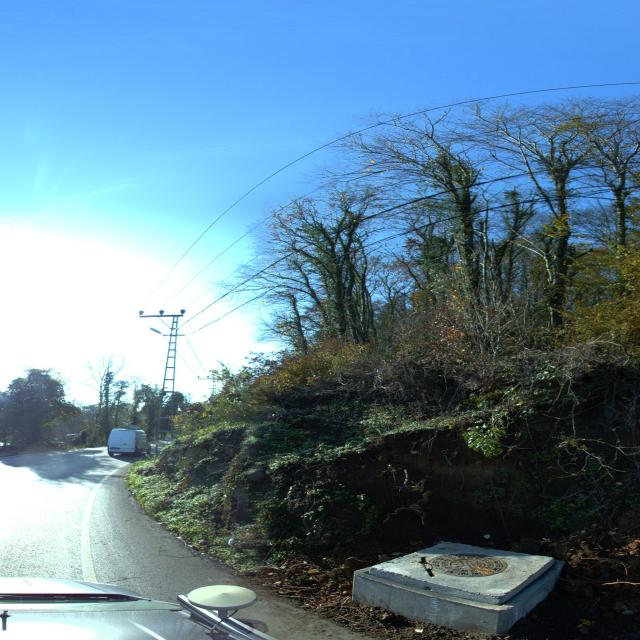Utility Pole Information Plate: (158, 409, 163, 414)
